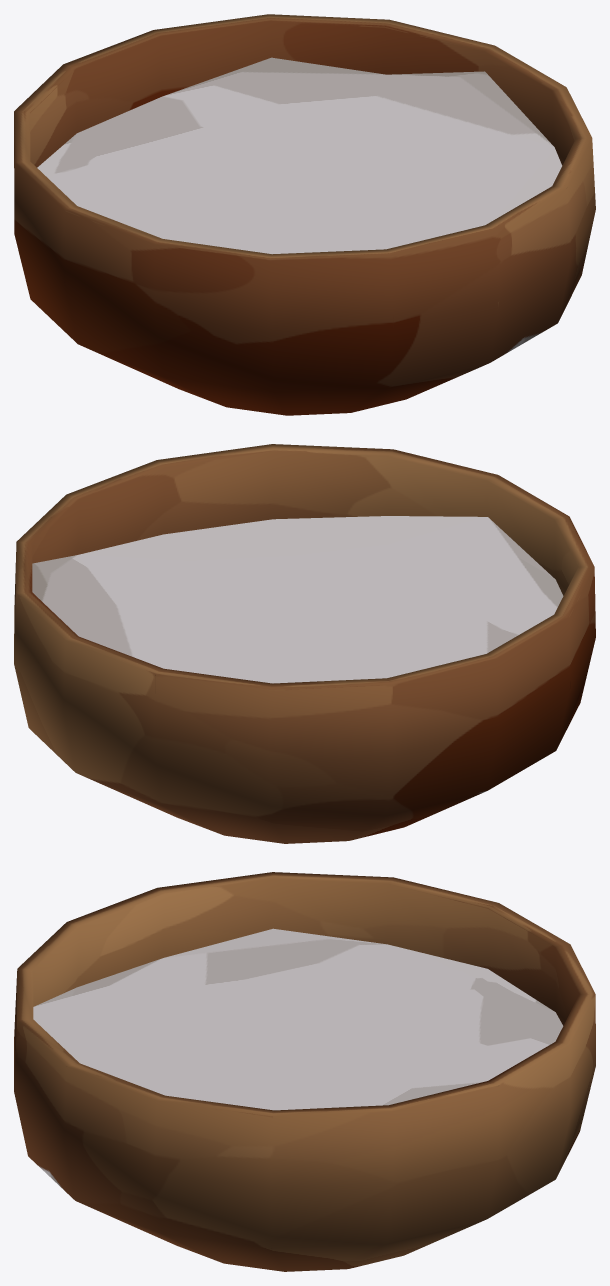
The model's file is yogurtkase.fbx.
3 renders of one model, top to bottom at view 1: azimuth 30°, elevation 25°; view 2: azimuth 150°, elevation 25°; view 3: azimuth 270°, elevation 25°, orthographic.
Parts seen in each view (by area): view 1: Circle.005; view 2: Circle.005; view 3: Circle.005.
Boxes of the visible parts, bbox=[...] form: Circle.005: bbox=[14, 14, 595, 415]; Circle.005: bbox=[14, 444, 595, 843]; Circle.005: bbox=[14, 872, 595, 1271].
Bounding box in the file's own units: 15.97 × 6.43 × 15.97.
Materials: 2 (2 with a texture image).
